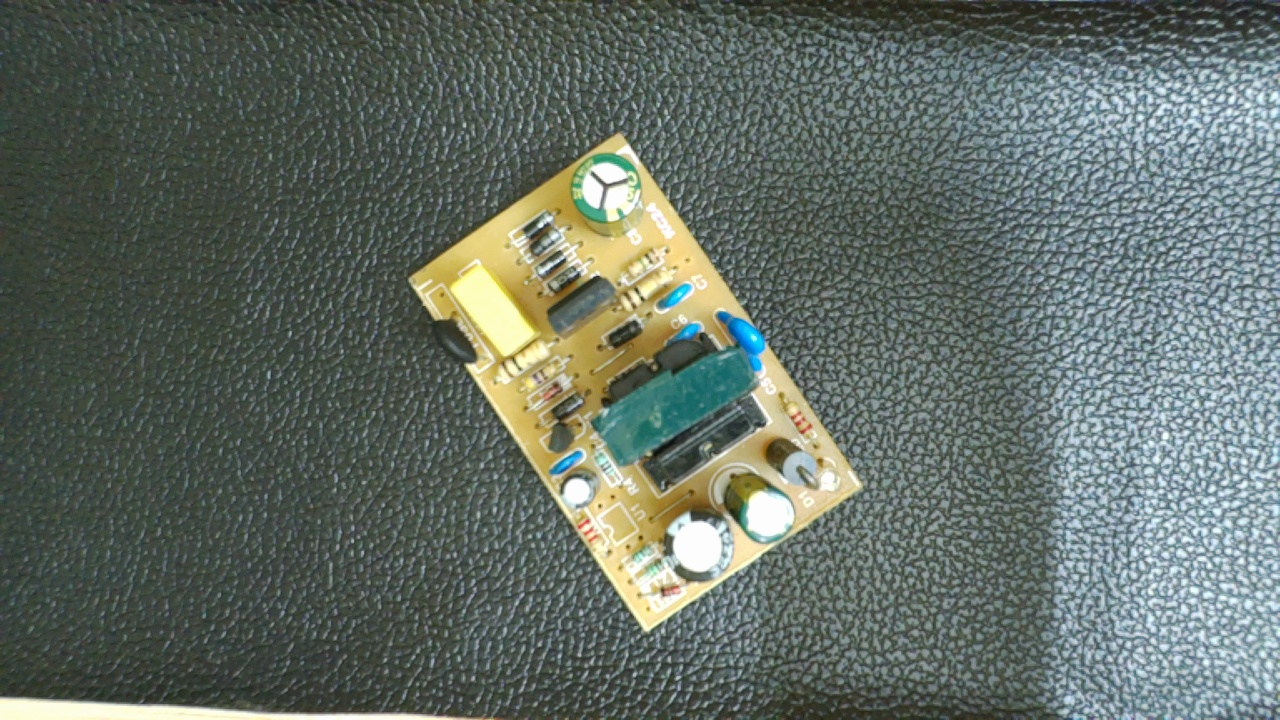fuse: (431, 306, 494, 372)
hv_capacitor: (569, 150, 645, 236)
mov: (714, 305, 768, 375)
